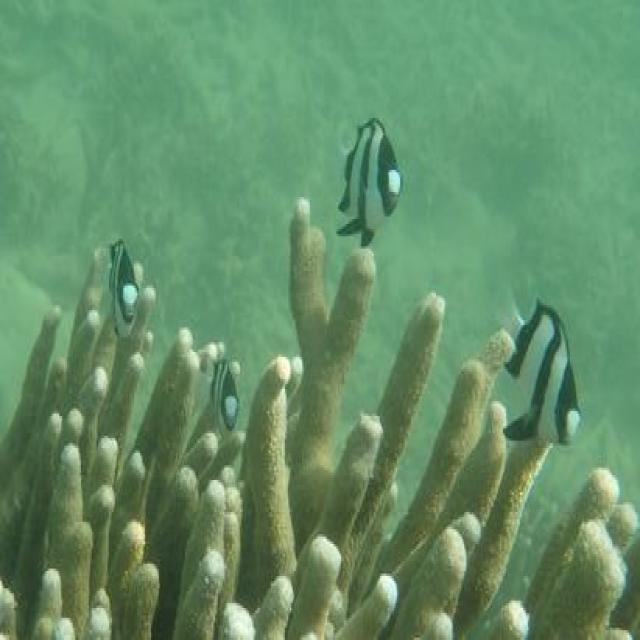ThreeStripedDamselfish: (503, 300, 581, 446), (338, 118, 402, 251)
